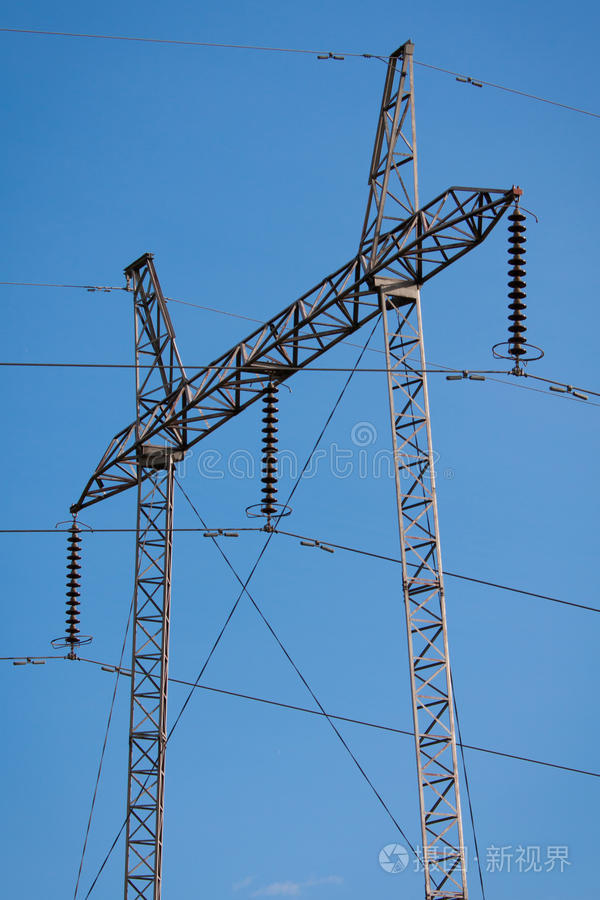insulator: (502, 210, 529, 357), (257, 385, 282, 516), (62, 523, 86, 643)
